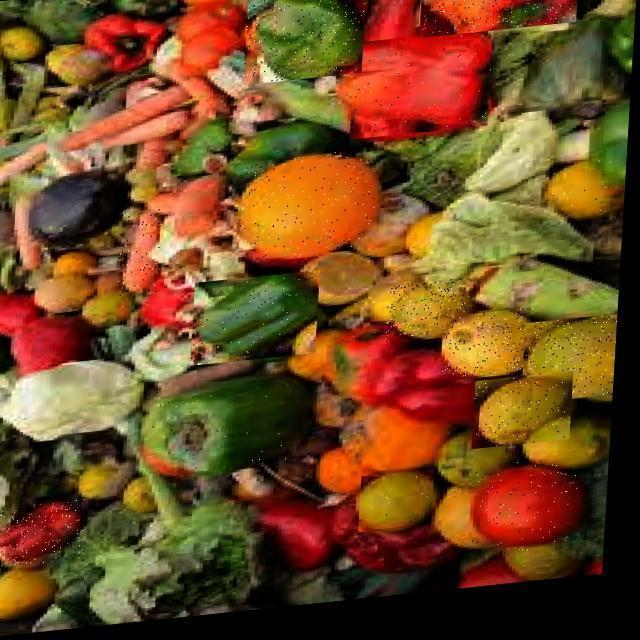cardboard: (1, 0, 630, 633)
